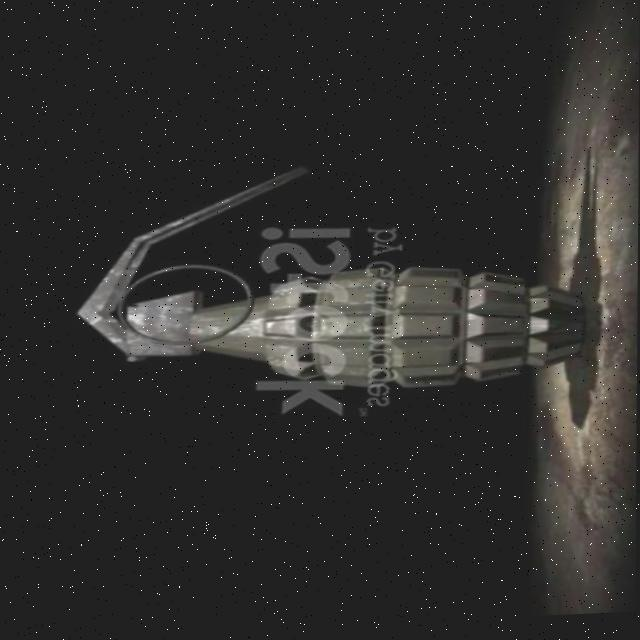grenade: (78, 156, 600, 415)
